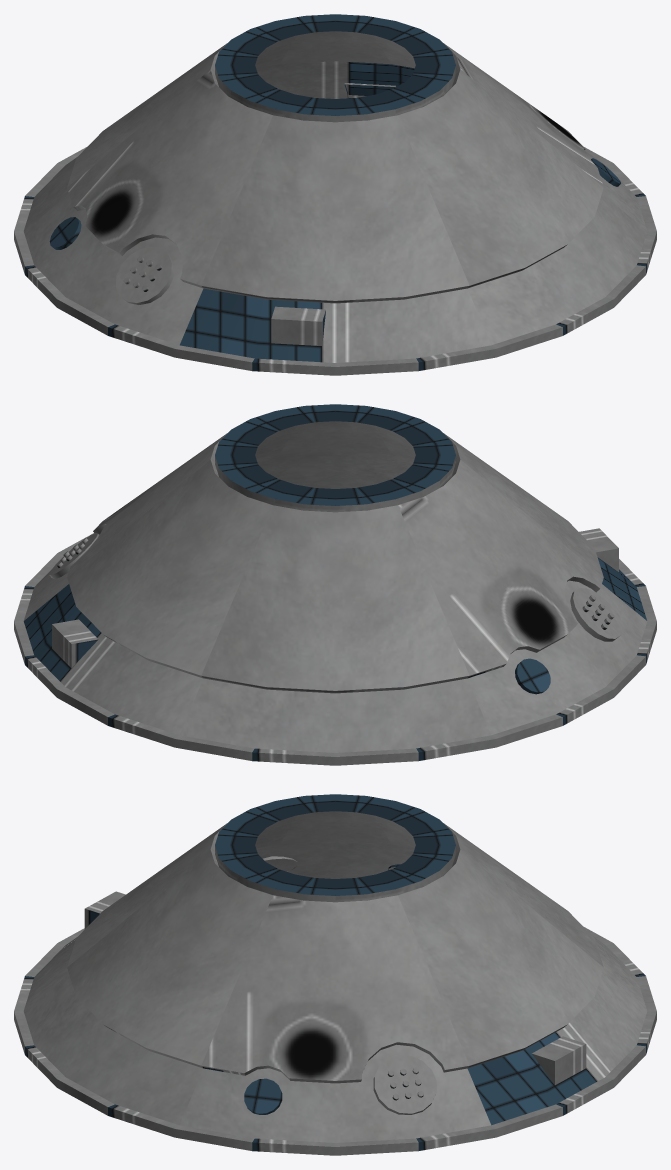
The model's file is big narrow adapter.obj.
3 renders of one model, top to bottom at view 1: azimuth 30°, elevation 25°; view 2: azimuth 150°, elevation 25°; view 3: azimuth 270°, elevation 25°, orthographic.
Visible parts, largest first — view 1: 1; view 2: 1; view 3: 1.
Boxes of the visible parts, <box> form: 1: <box>14,14,656,375</box>; 1: <box>14,404,656,765</box>; 1: <box>14,794,656,1155</box>.
Bounding box in the file's own units: 2.5 × 0.75 × 2.5.
